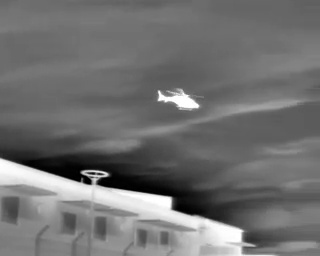HELICOPTER: (153, 81, 208, 117)
